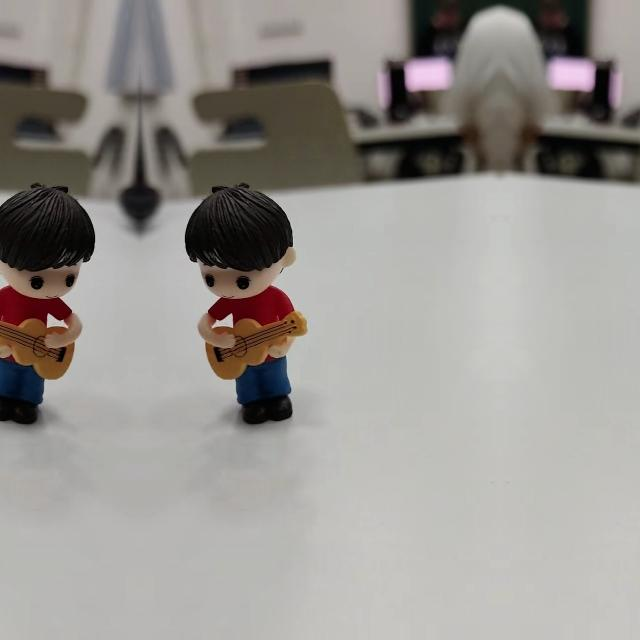man cloth: (206, 290, 300, 332), (0, 289, 73, 332)
man head: (185, 176, 299, 302), (0, 176, 95, 302)
trousers: (224, 352, 300, 422), (0, 352, 55, 421)
